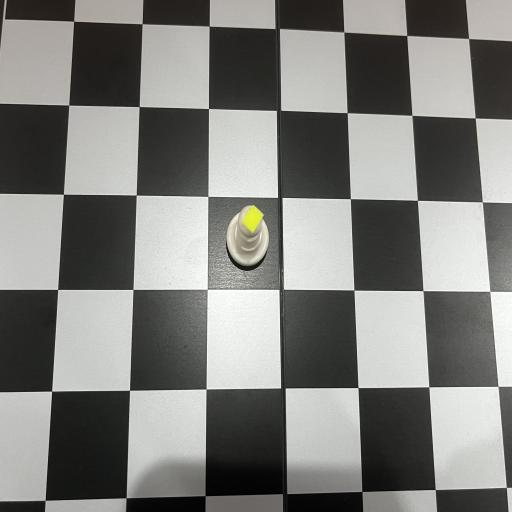White Pawn: (226, 204, 269, 267)
